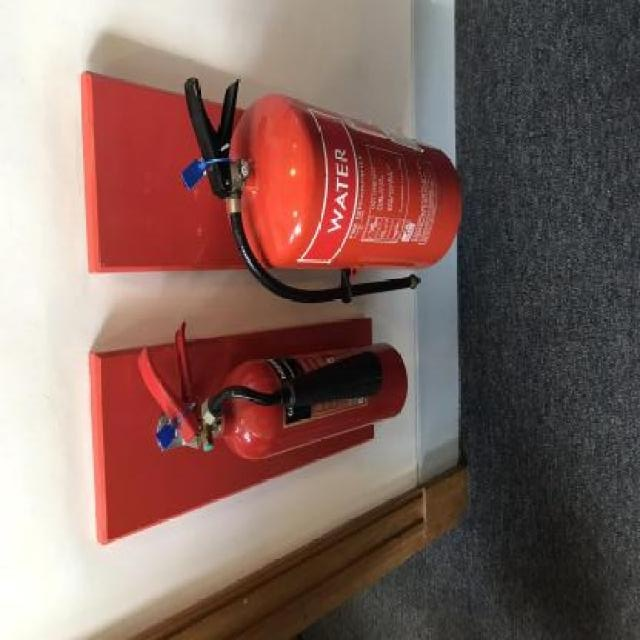fire extinguisher: (182, 77, 463, 300), (138, 325, 410, 459)
